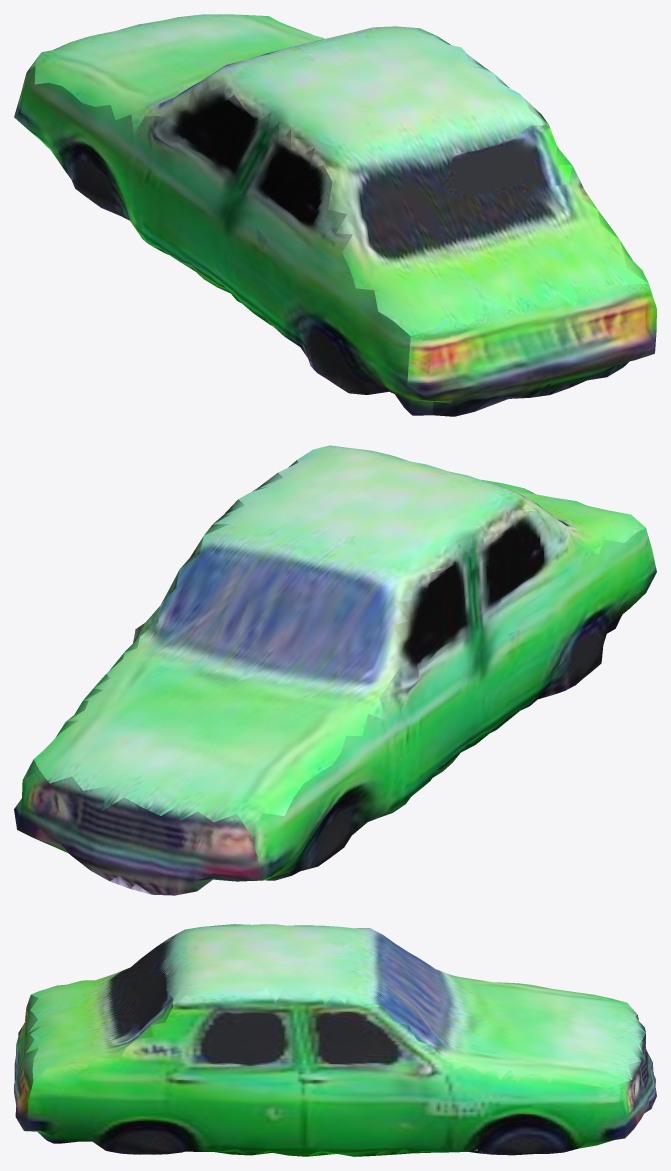
File: dacia-3c.glb
The picture shows the model from 3 angles, top to bottom: view 1: azimuth 30°, elevation 25°; view 2: azimuth 150°, elevation 25°; view 3: azimuth 270°, elevation 25°; orthographic projection. The views are drawn at different scales.
Parts seen in each view (by area): view 1: geometry_0.002; view 2: geometry_0.002; view 3: geometry_0.002.
Part boxes in pixels (x1,y1,x2,y2): geometry_0.002: (14, 14, 656, 416); geometry_0.002: (14, 445, 656, 895); geometry_0.002: (14, 924, 656, 1156).
Size of the model in its own units: 1.65 by 1.16 by 4.31.
1 material, 1 textured.
